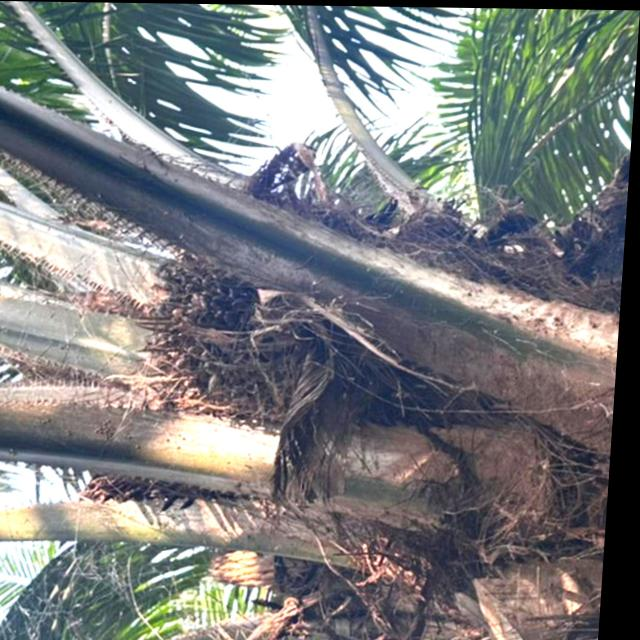unripe: (147, 181, 411, 422)
